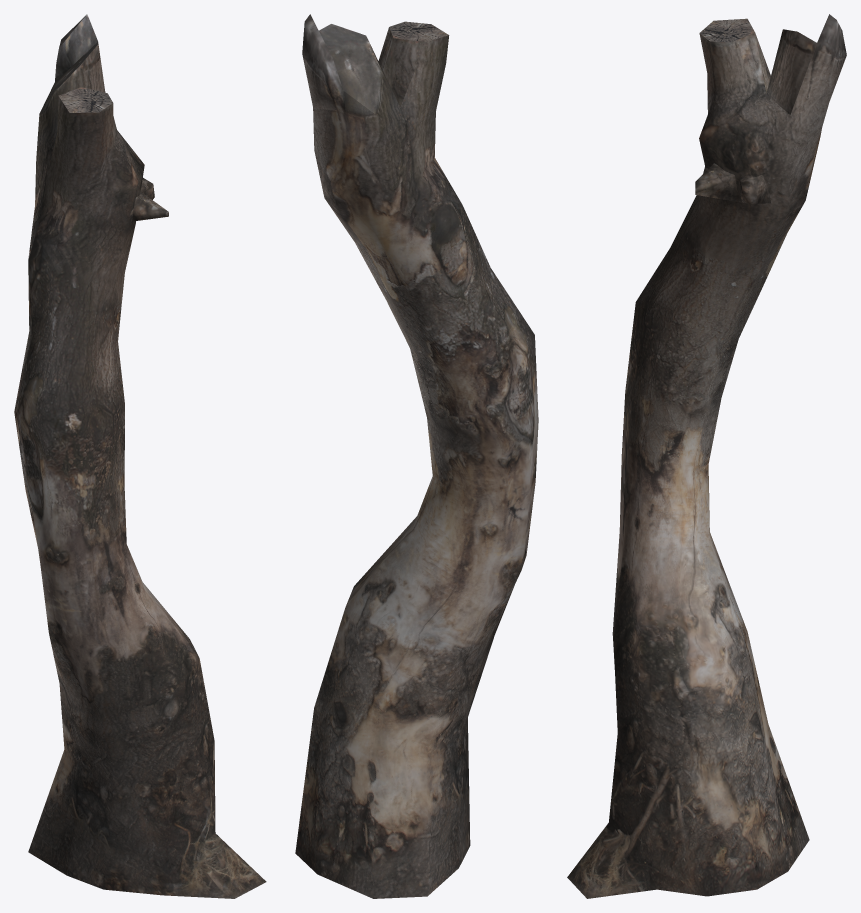
File: TreeStump.FBX
3 renders of one model, left to right at view 1: azimuth 30°, elevation 25°; view 2: azimuth 150°, elevation 25°; view 3: azimuth 270°, elevation 25°, orthographic. The views are drawn at different scales.
Parts seen in each view (by area): view 1: TreeStump_LOD0; view 2: TreeStump_LOD0; view 3: TreeStump_LOD0.
Part boxes in pixels (x1,y1,x2,y2): TreeStump_LOD0: (14,14,266,898); TreeStump_LOD0: (295,14,538,898); TreeStump_LOD0: (567,14,846,898).
Size of what is drawn, in the model's own units: 62.84 by 245 by 73.14.
